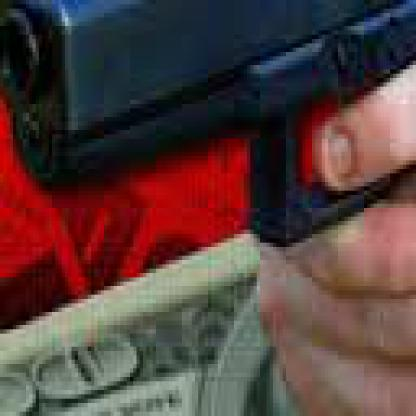gun: (0, 0, 413, 308)
